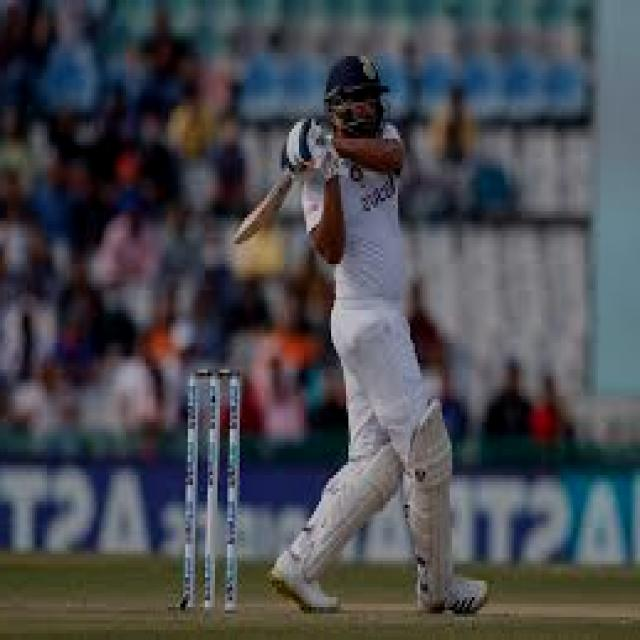toe: (223, 213, 260, 251)
